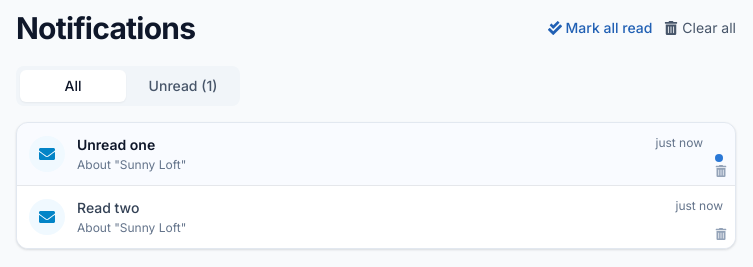
Scenario: Notifications page › removes a notification
Expected: the text "Unread one" is shown, top-left (77, 135), bottom-right (155, 155)
Step 1. Click the button named "Remove notification: Unread one" → point(721, 171), box top-left (711, 161), bottom-right (731, 181)
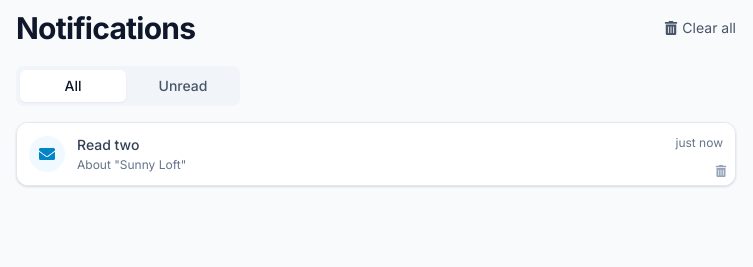
Expected: the link "Unread one" is gone
